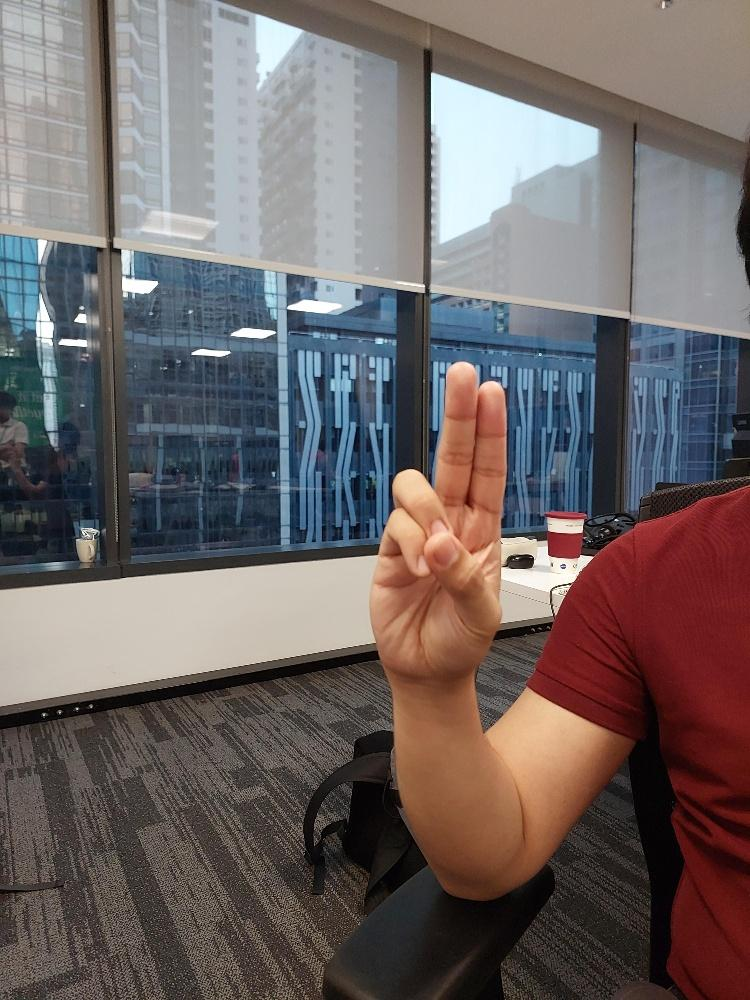u: (366, 356, 510, 686)
